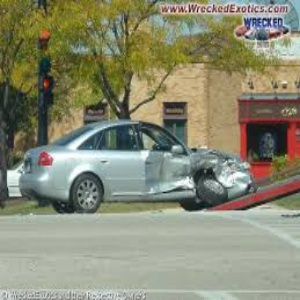door: (131, 149, 193, 199)
